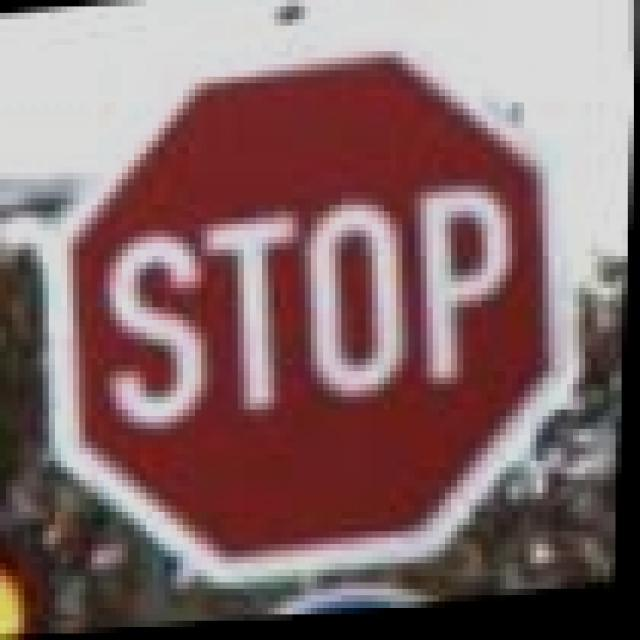stop_sign: (24, 32, 586, 602)
